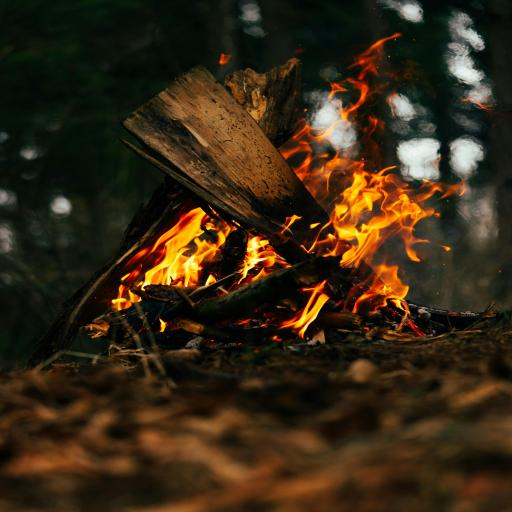campfire: (87, 62, 512, 357)
